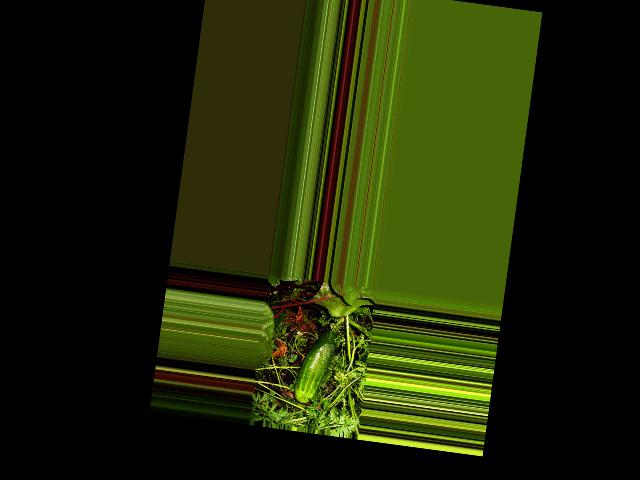cucumber: (292, 325, 340, 405)
